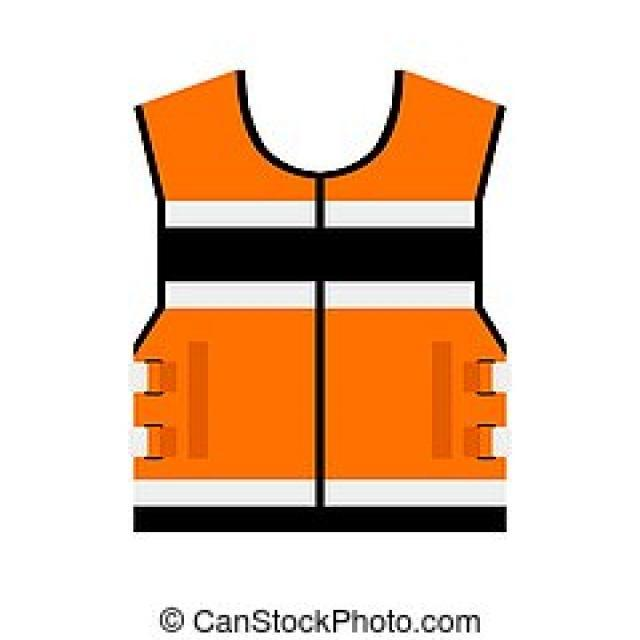reflective_jacket: (93, 42, 557, 512)
